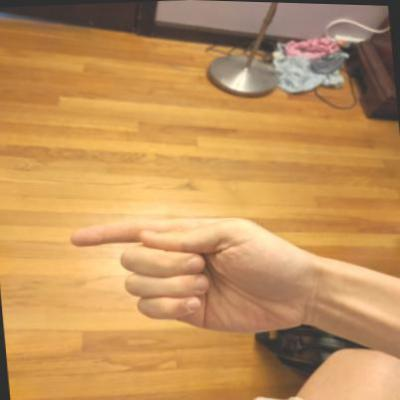hand: (63, 202, 311, 349)
